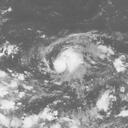cyclone: (54, 46, 83, 75)
